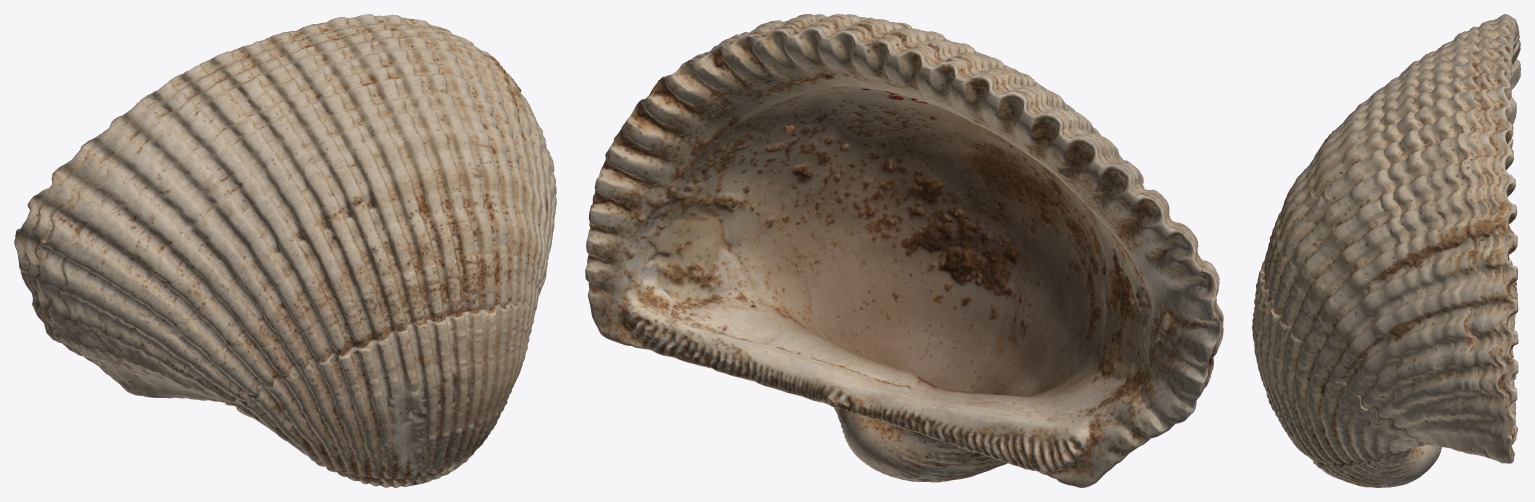
Rendered from EWS0016592.glb.
3 renders of one model, left to right at view 1: azimuth 30°, elevation 25°; view 2: azimuth 150°, elevation 25°; view 3: azimuth 270°, elevation 25°, orthographic. The views are drawn at different scales.
Visible parts, largest first — view 1: input; view 2: input; view 3: input.
Part boxes in pixels (left/top/right/bottom): input: left=14, top=14, right=556, bottom=487; input: left=585, top=14, right=1223, bottom=487; input: left=1252, top=14, right=1520, bottom=487.
Bounding box in the file's own units: 0.0642 × 0.0479 × 0.0286.
Materials: 1 (1 with a texture image).
